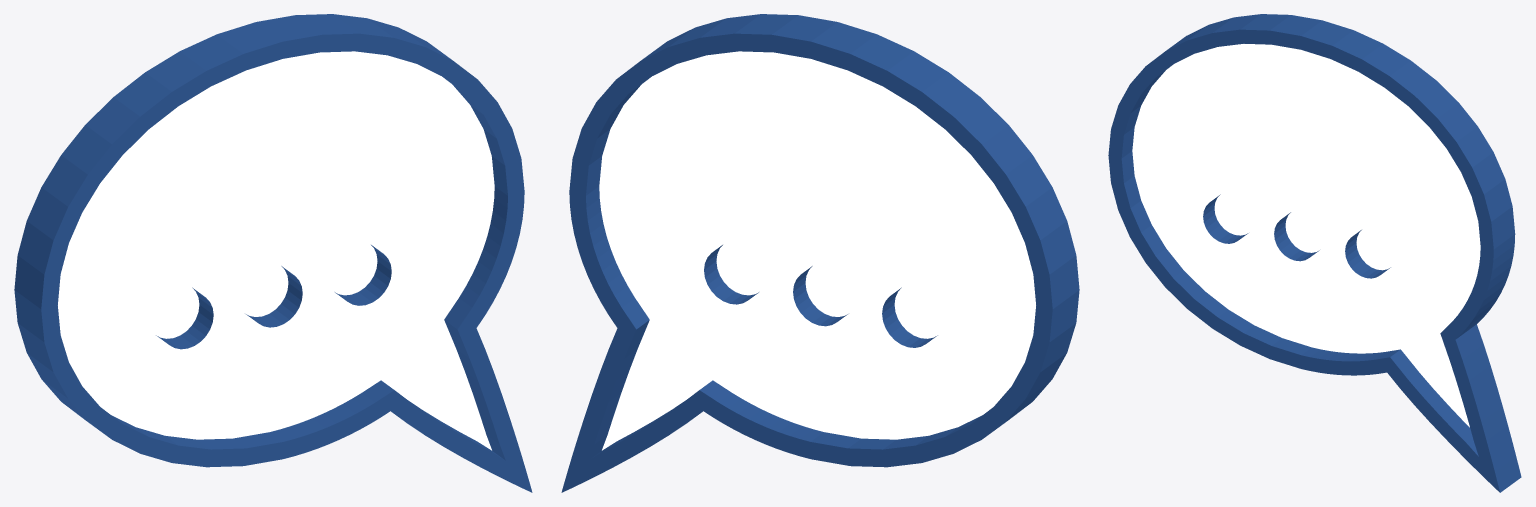
Rendered from l-icons-story-1.glb.
The picture shows the model from 3 angles, left to right: view 1: azimuth 30°, elevation 25°; view 2: azimuth 150°, elevation 25°; view 3: azimuth 330°, elevation 25°; orthographic projection. The views are drawn at different scales.
Visible parts, largest first — view 1: Icon_Story; view 2: Icon_Story; view 3: Icon_Story.
Part boxes in pixels (x1,y1,x2,y2): Icon_Story: (14, 14, 532, 492); Icon_Story: (561, 14, 1079, 492); Icon_Story: (1108, 14, 1521, 492).
Bounding box in the file's own units: 0.5553 × 0.5532 × 0.0542.
